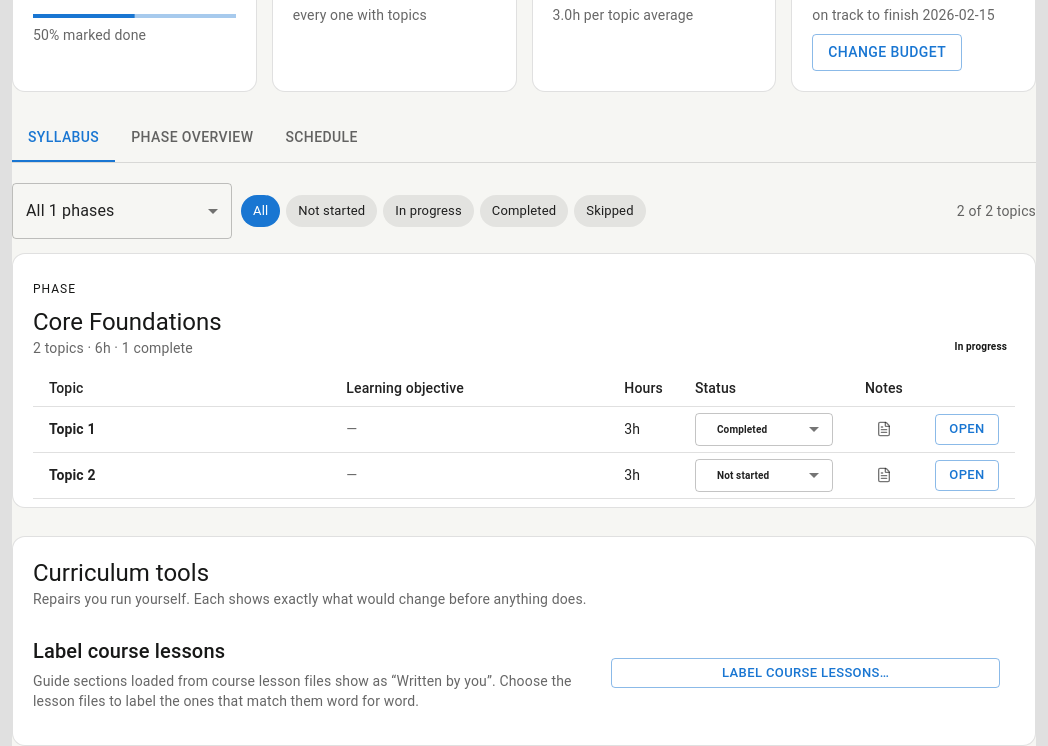
Test: RoadmapDetailPage › updates a topic status and refreshes progress without a full reload
(page scrolled)
What coordinates should you click on to do the following:
click the dropdown named "Status for Topic 2"
I would click on:
 (743, 476)
Its box is [717, 470, 769, 481].
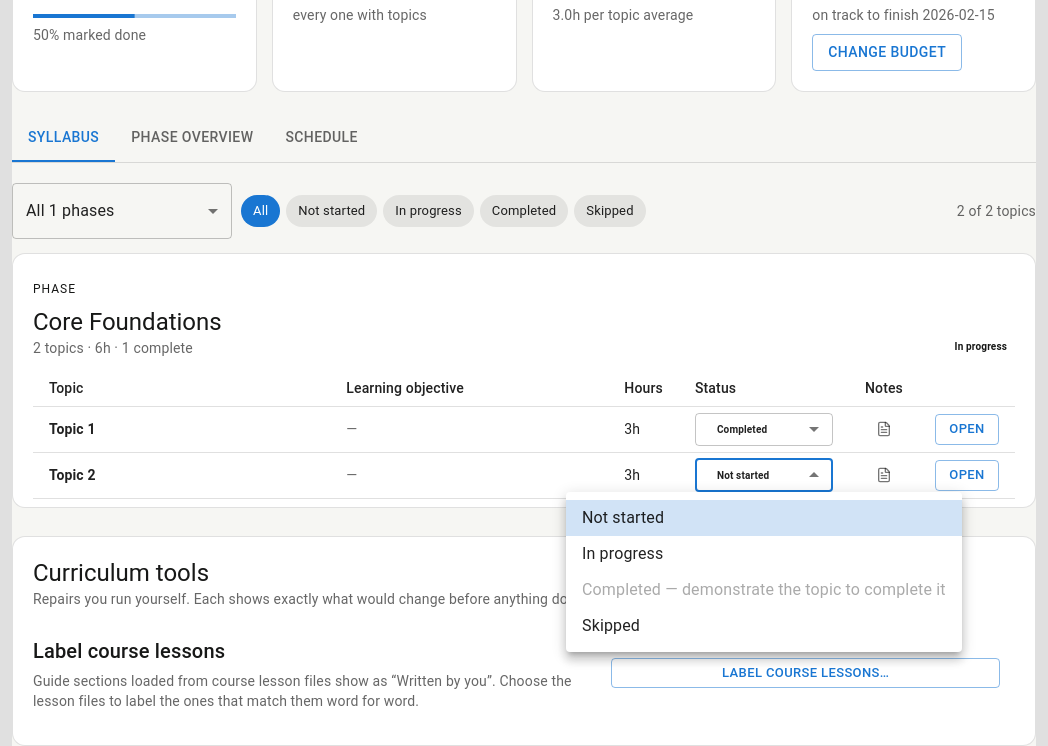
What coordinates should you click on to do the following:
click the option "In progress"
I would click on:
 (623, 554)
Its box is [582, 544, 664, 563].
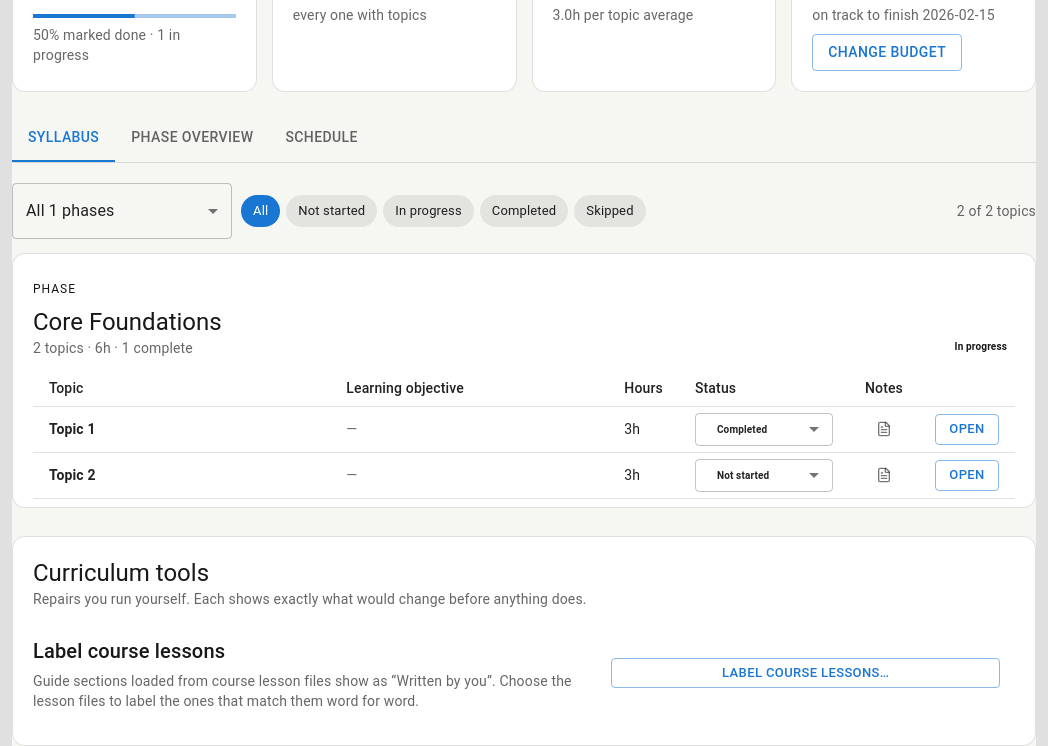
expect the text "50% marked done · 1 in progress" is shown: met, box [33, 27, 180, 63]
